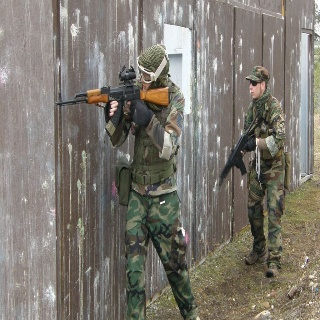rifle: (53, 64, 170, 147), (217, 108, 261, 187)
